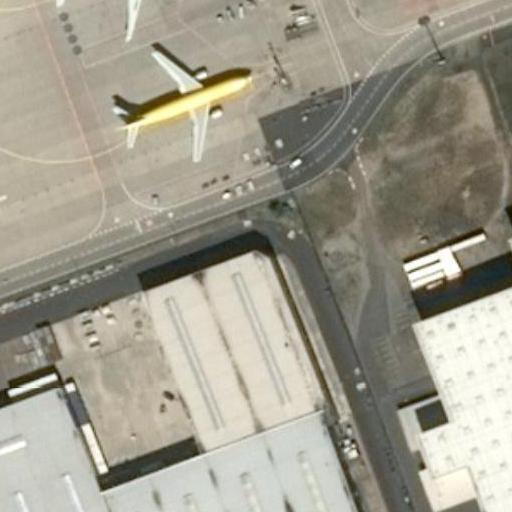Aircraft: (105, 50, 269, 163), (33, 0, 211, 29)
